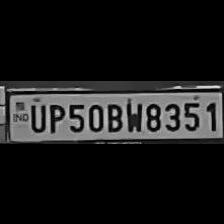0: (86, 99, 104, 131)
1: (202, 98, 220, 130)
3: (162, 98, 180, 130)
5: (181, 97, 201, 130), (65, 99, 85, 131)
8: (144, 98, 162, 132)
B: (104, 99, 122, 131)
P: (44, 100, 64, 132)
U: (27, 100, 46, 132)
W: (123, 97, 143, 131)
